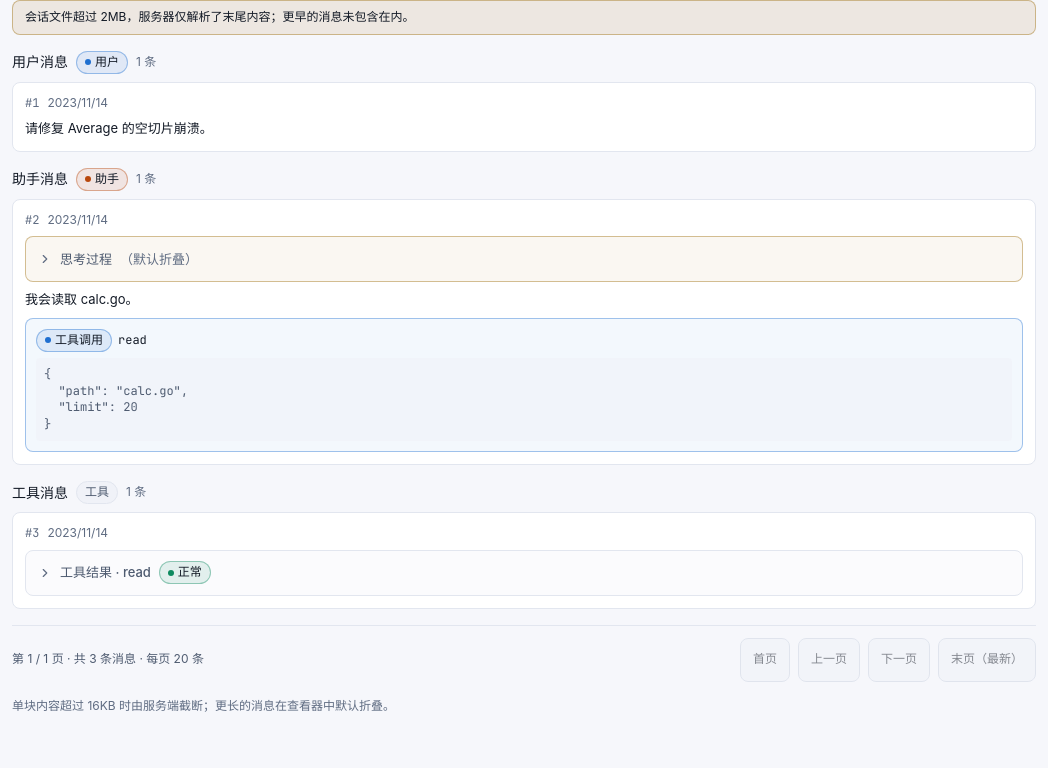
Test: TranscriptViewer › groups roles, renders object arguments and collapses thinking/tool results
Check: the heading "用户消息" is shown, box [12,51,68,73]
Check: the heading "助手消息" is shown, box [12,168,68,190]
What coordinates should you click on to do the following:
click the heading "思考过程 （默认折叠）"
I would click on:
 (118, 259)
Its box is [38,251,198,267].
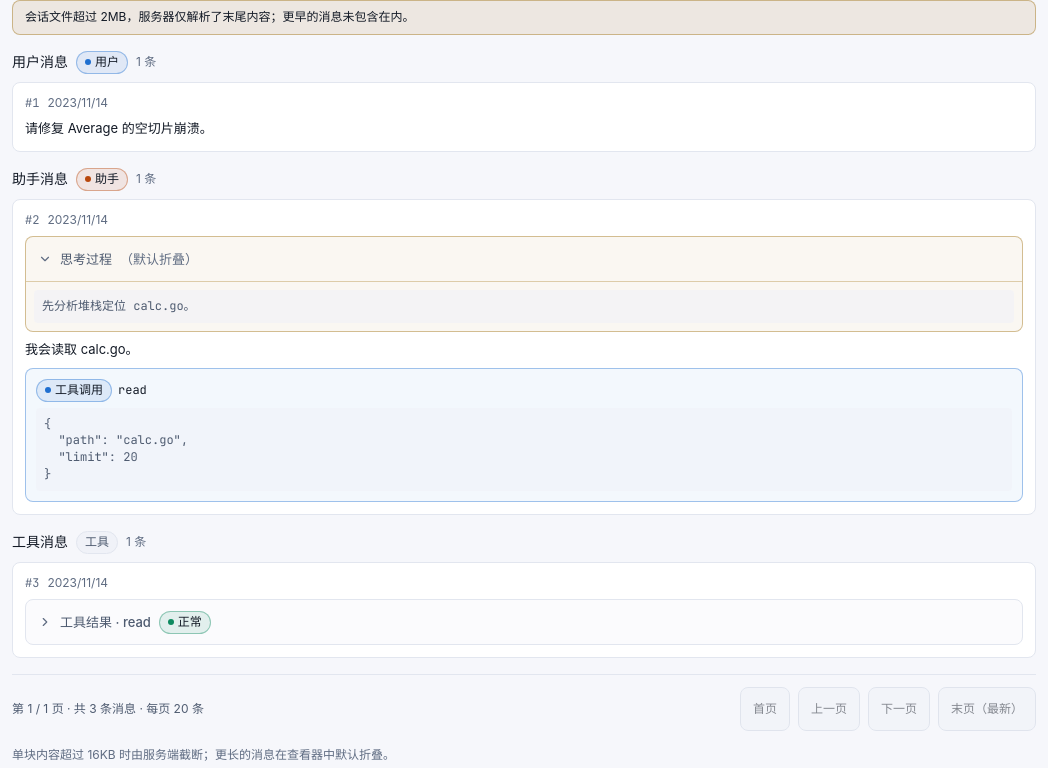
Check: the text "思考过程" has attribute open, box [25,236,1023,332]
What coordinates should you click on to do the following:
click the heading "工具结果 · read 正常"
I would click on:
 (124, 622)
Its box is [38,611,211,634].
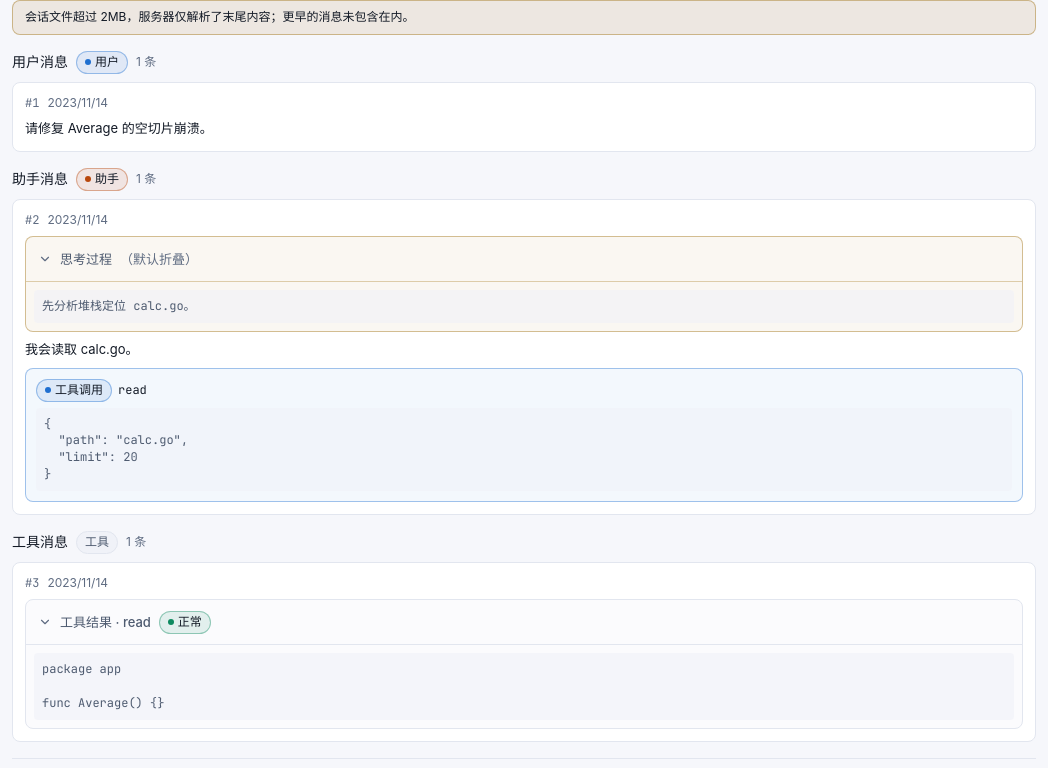
Check: the text "package app func Average() {}" is shown, box [34,653,1014,720]
